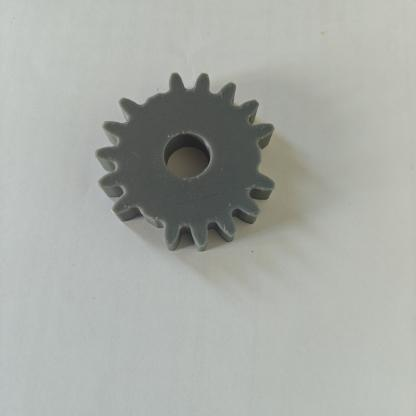defect: (112, 54, 198, 131), (108, 186, 184, 263), (237, 114, 302, 204)
gear: (80, 41, 312, 279)
